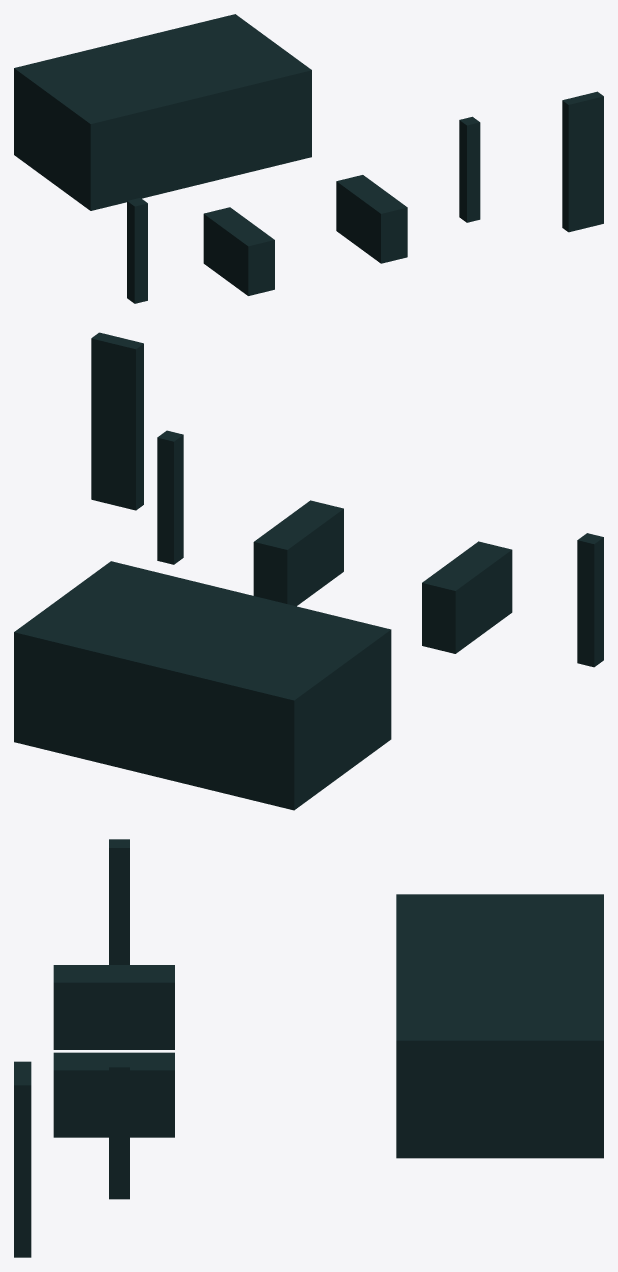
The model's file is oc_petrol_forecourt_01_collision.glb.
The picture shows the model from 3 angles, top to bottom: view 1: azimuth 30°, elevation 25°; view 2: azimuth 150°, elevation 25°; view 3: azimuth 270°, elevation 25°; orthographic projection. The views are drawn at different scales.
Parts seen in each view (by area): view 1: COL_Kiosk, COL_Totem, COL_Island1, COL_Island2, COL_Column7.5, COL_Column-7.5; view 2: COL_Kiosk, COL_Totem, COL_Island1, COL_Island2, COL_Column-7.5, COL_Column7.5; view 3: COL_Kiosk, COL_Island1, COL_Island2, COL_Totem, COL_Column7.5, COL_Column-7.5.
Boxes of the visible parts, left/top/right/bottom form: COL_Kiosk: left=14, top=14, right=311, bottom=210; COL_Totem: left=562, top=91, right=603, bottom=232; COL_Island1: left=203, top=207, right=274, bottom=295; COL_Island2: left=336, top=175, right=407, bottom=263; COL_Column7.5: left=459, top=116, right=480, bottom=222; COL_Column-7.5: left=127, top=197, right=147, bottom=303; COL_Kiosk: left=14, top=561, right=391, bottom=810; COL_Totem: left=91, top=332, right=143, bottom=510; COL_Island1: left=422, top=541, right=512, bottom=653; COL_Island2: left=253, top=500, right=343, bottom=606; COL_Column-7.5: left=577, top=533, right=603, bottom=667; COL_Column7.5: left=157, top=430, right=183, bottom=564; COL_Kiosk: left=396, top=894, right=603, bottom=1158; COL_Island1: left=53, top=965, right=174, bottom=1049; COL_Island2: left=53, top=1052, right=174, bottom=1137; COL_Totem: left=14, top=1061, right=31, bottom=1257; COL_Column7.5: left=109, top=1058, right=129, bottom=1199; COL_Column-7.5: left=109, top=839, right=129, bottom=964.
Size of the model in its own units: 19.6 by 5.5 by 17.05.
